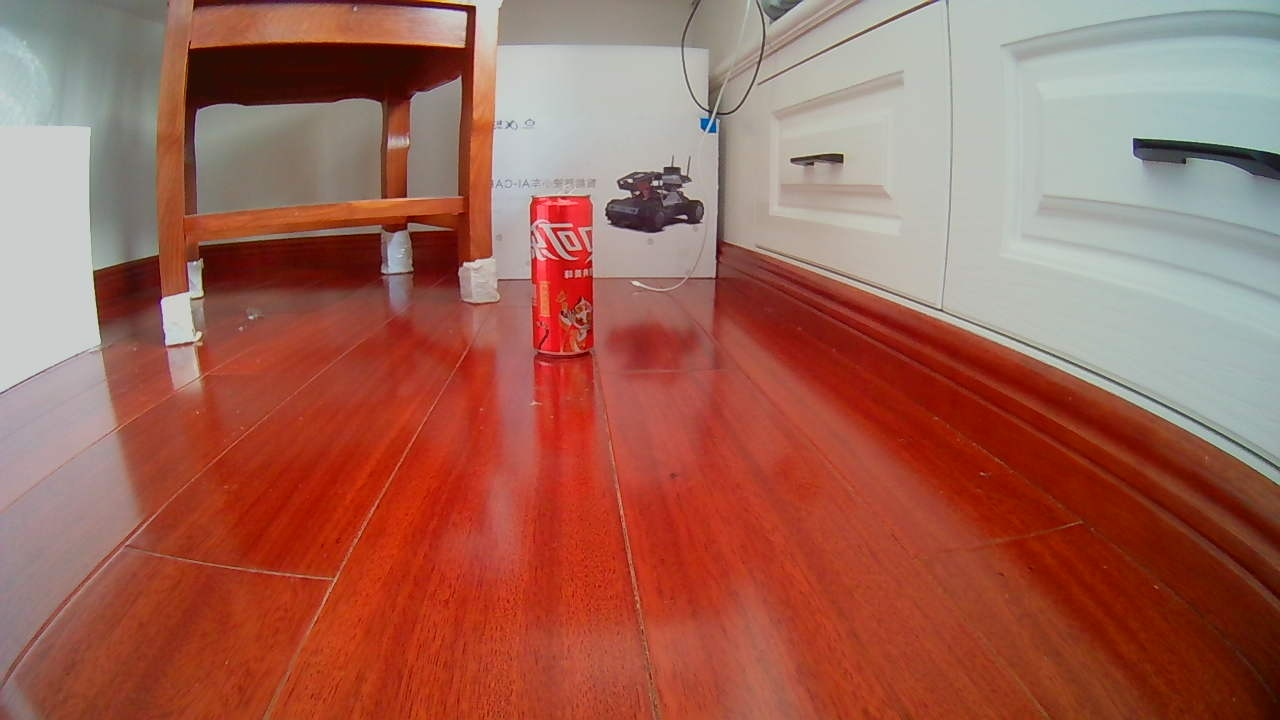cola: (520, 192, 600, 354)
